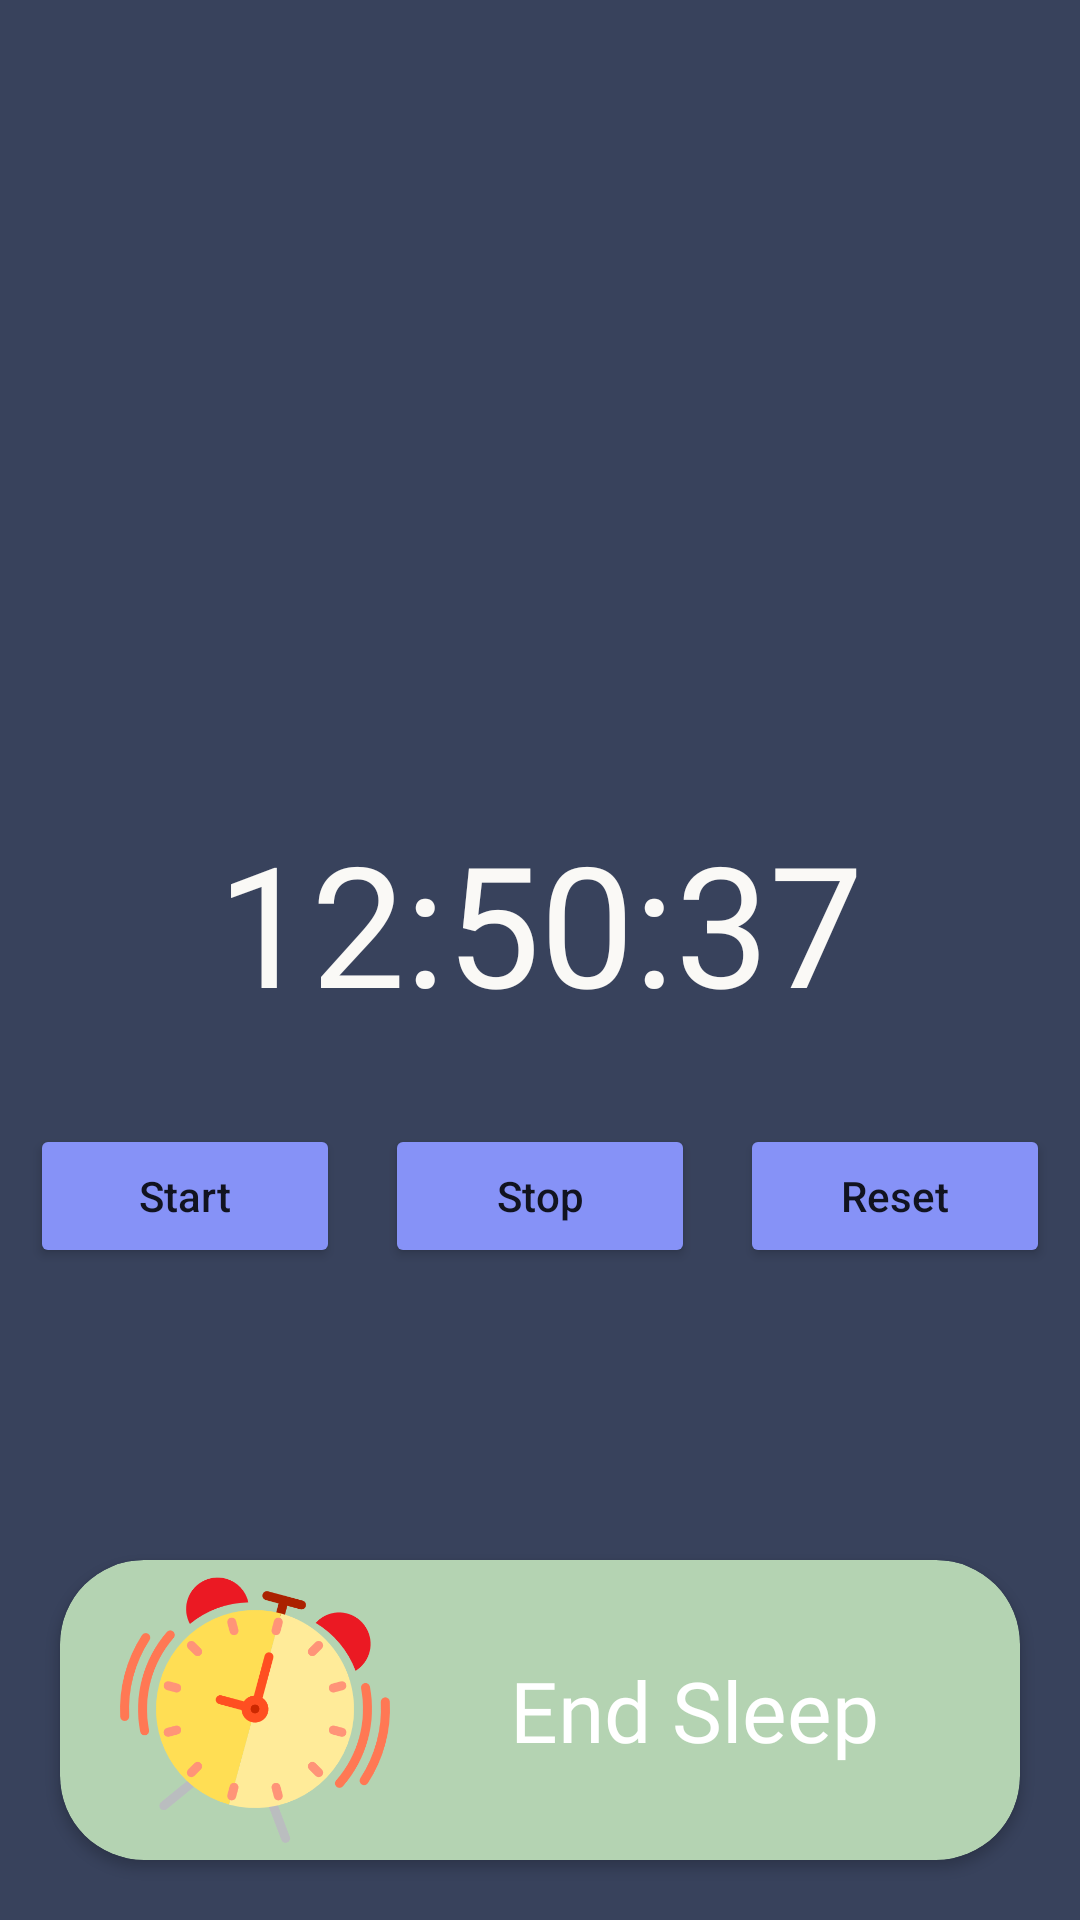

Locate icon controls on the screen. Image size 1080px x 1920px, boxes as box=[x1, y1, x2, y2].
alarm: box=[120, 1577, 390, 1808]
